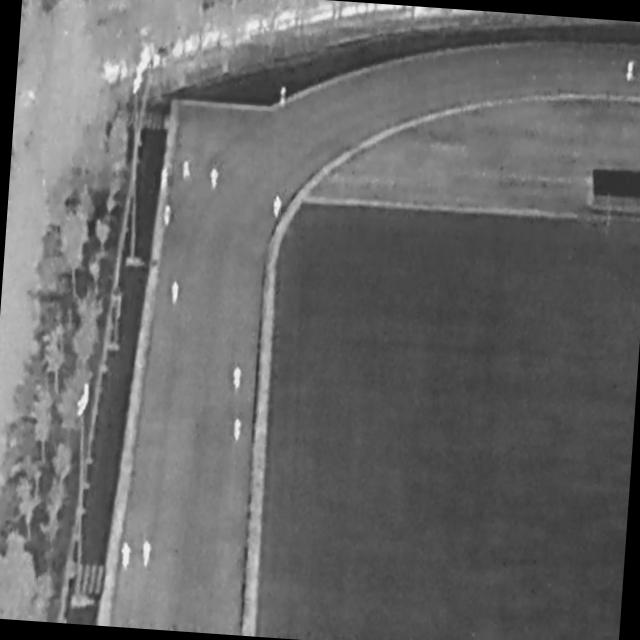person: (120, 542, 133, 570), (271, 194, 284, 220), (142, 541, 154, 569), (170, 281, 181, 307), (209, 168, 221, 191), (232, 418, 243, 443), (626, 59, 637, 84), (233, 367, 243, 391), (163, 205, 173, 228), (182, 161, 193, 181), (161, 168, 170, 192), (280, 86, 288, 107)
